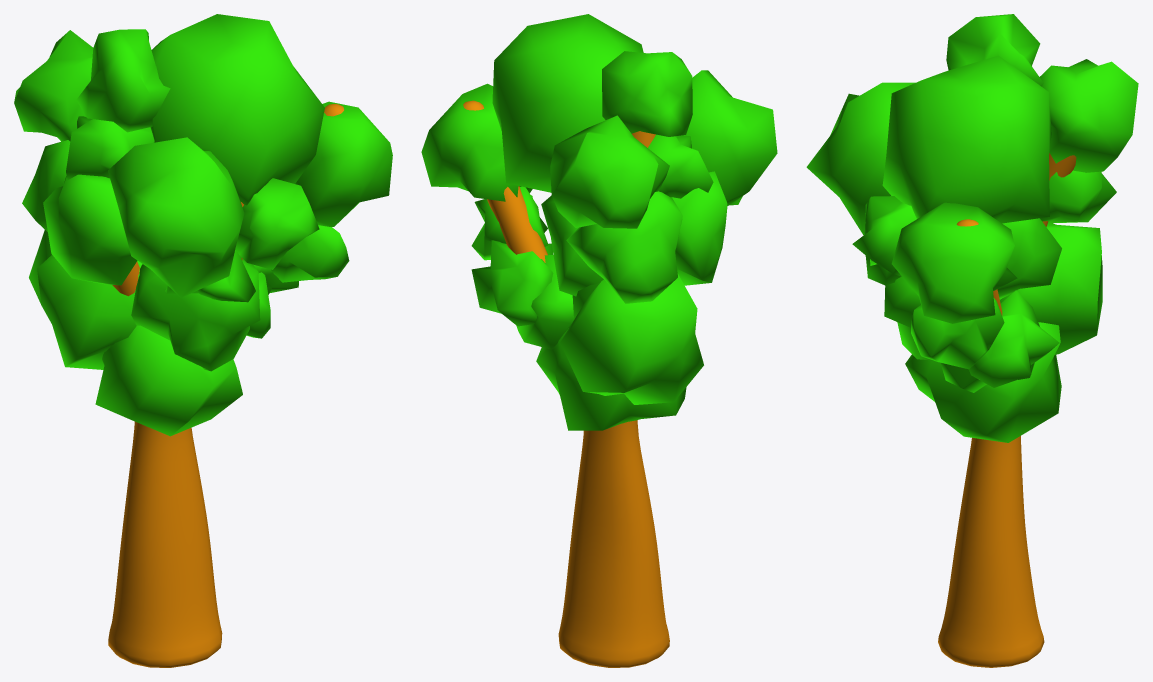
File: Tree3-alt.fbx
3 views of the same model, side by side, from view 1: azimuth 30°, elevation 25°; view 2: azimuth 150°, elevation 25°; view 3: azimuth 270°, elevation 25° (orthographic). The views are drawn at different scales.
Parts seen in each view (by area): view 1: Tree3; view 2: Tree3; view 3: Tree3.
Part boxes in pixels (x1,y1,x2,y2): Tree3: (14,14,392,667); Tree3: (421,14,777,667); Tree3: (806,14,1138,667).
Bounding box in the file's own units: 685 × 1296 × 635.
